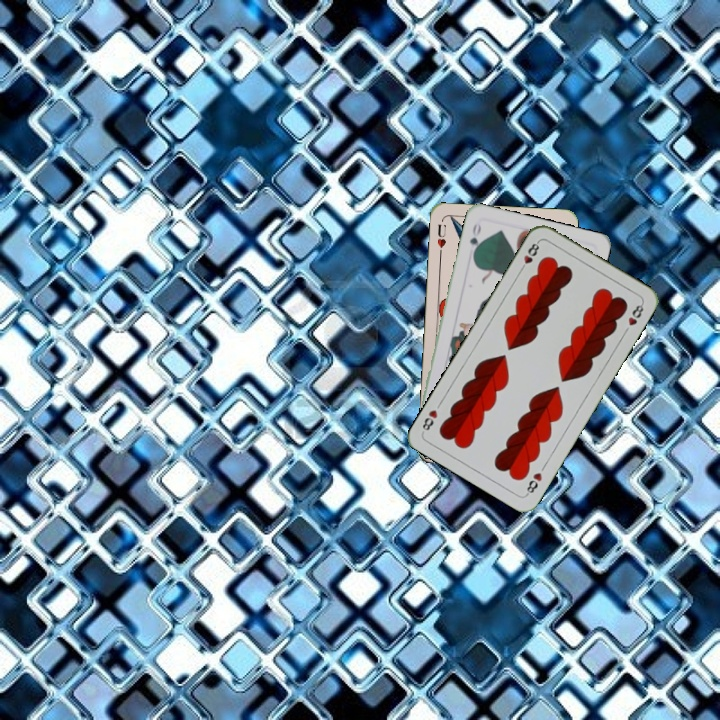GO: (466, 219, 484, 259)
H8: (516, 237, 542, 274), (522, 468, 545, 498)
HU: (433, 220, 448, 258)
